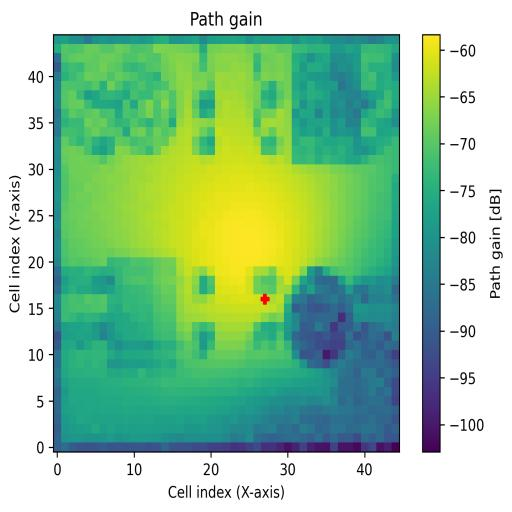Concrete: (293, 52, 376, 164)
Glass: (100, 58, 176, 154)
Metal: (284, 264, 360, 368)
Wood: (106, 257, 177, 377)
